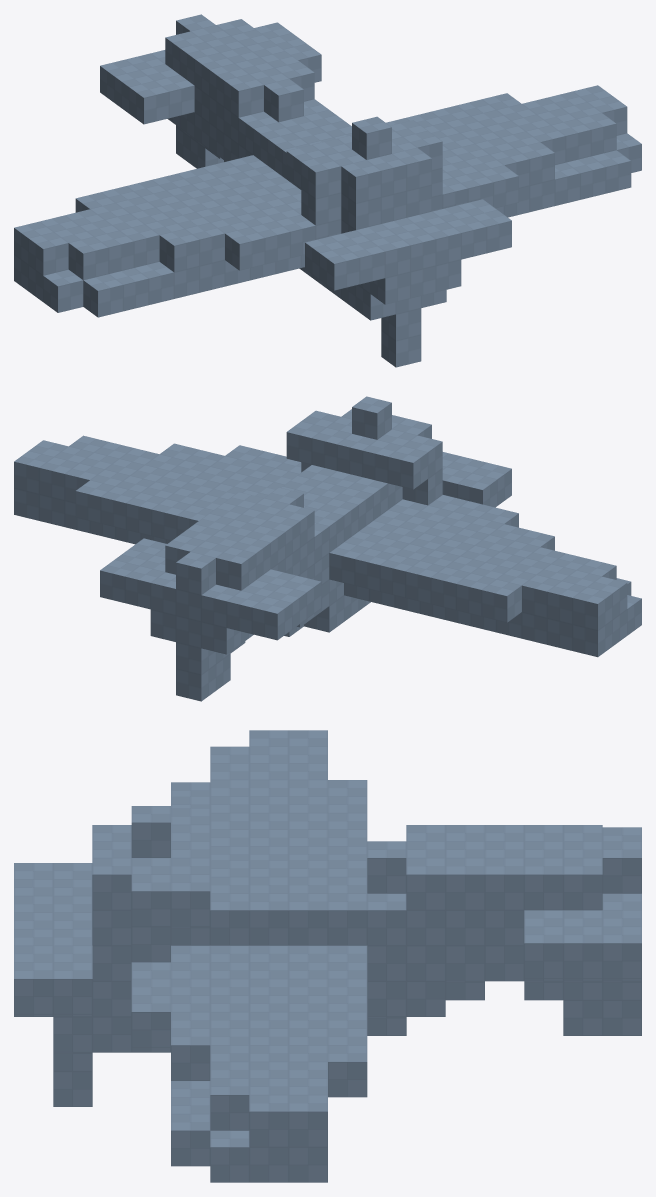
The picture shows the model from 3 angles, top to bottom: view 1: azimuth 30°, elevation 25°; view 2: azimuth 150°, elevation 25°; view 3: azimuth 270°, elevation 25°; orthographic projection. The views are drawn at different scales.
Visible parts, largest first — view 1: _bake; view 2: _bake; view 3: _bake.
Boxes of the visible parts, box(x1,y1,x2,y2) form: _bake: box(14, 14, 641, 367); _bake: box(14, 396, 641, 701); _bake: box(14, 730, 641, 1182).
Bounding box in the file's own units: 23 × 8 × 16.
Materials: 1 (1 with a texture image).
